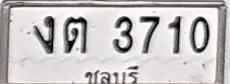0: (190, 16, 210, 53)
1: (168, 15, 182, 54)
3: (112, 15, 134, 53)
7: (139, 15, 160, 54)
A07: (33, 15, 55, 54)
A21: (64, 16, 87, 53)
CBI: (80, 64, 142, 84)
